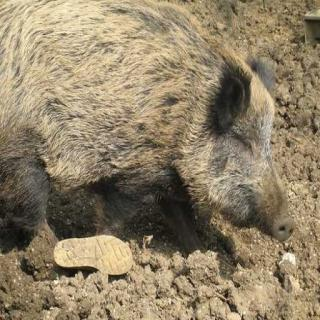Pig: (0, 0, 300, 261)
